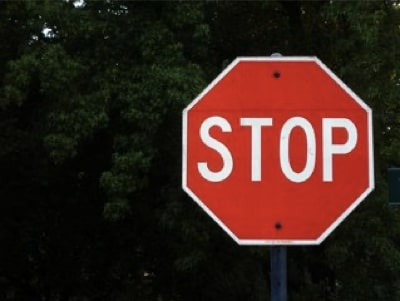StopSign: (180, 54, 376, 247)
